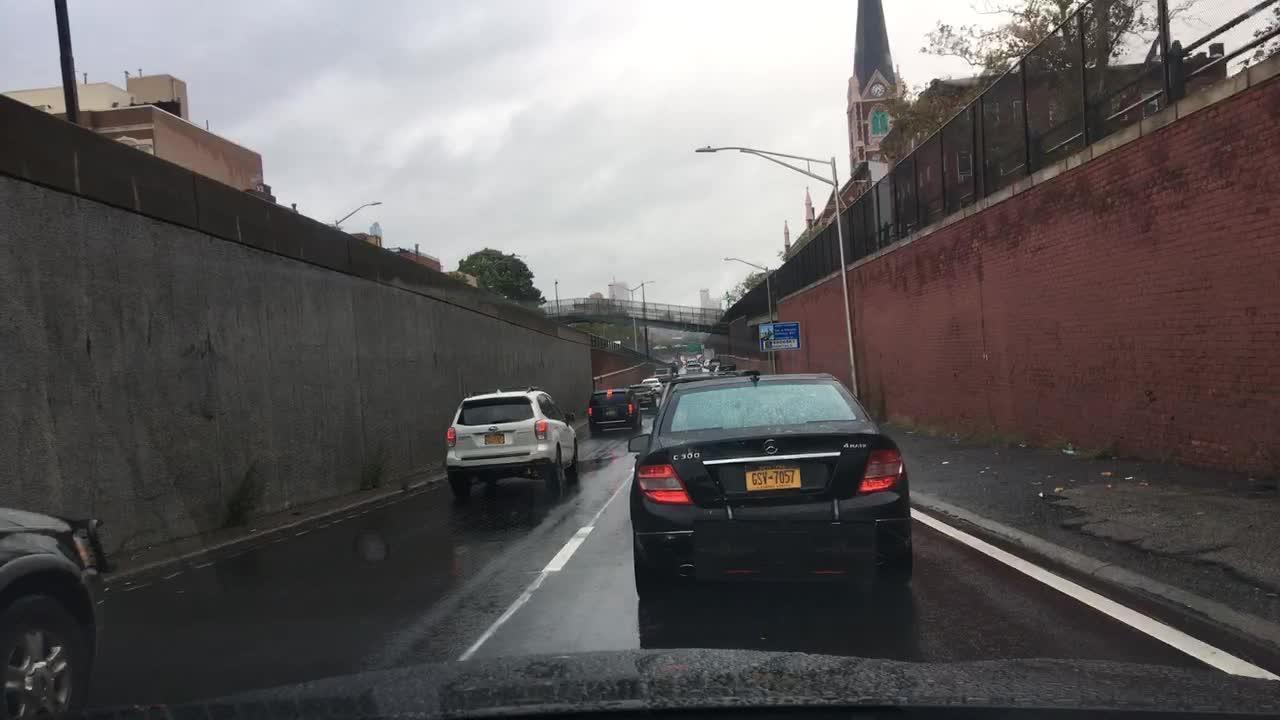Mercedes: (758, 437, 788, 457)
